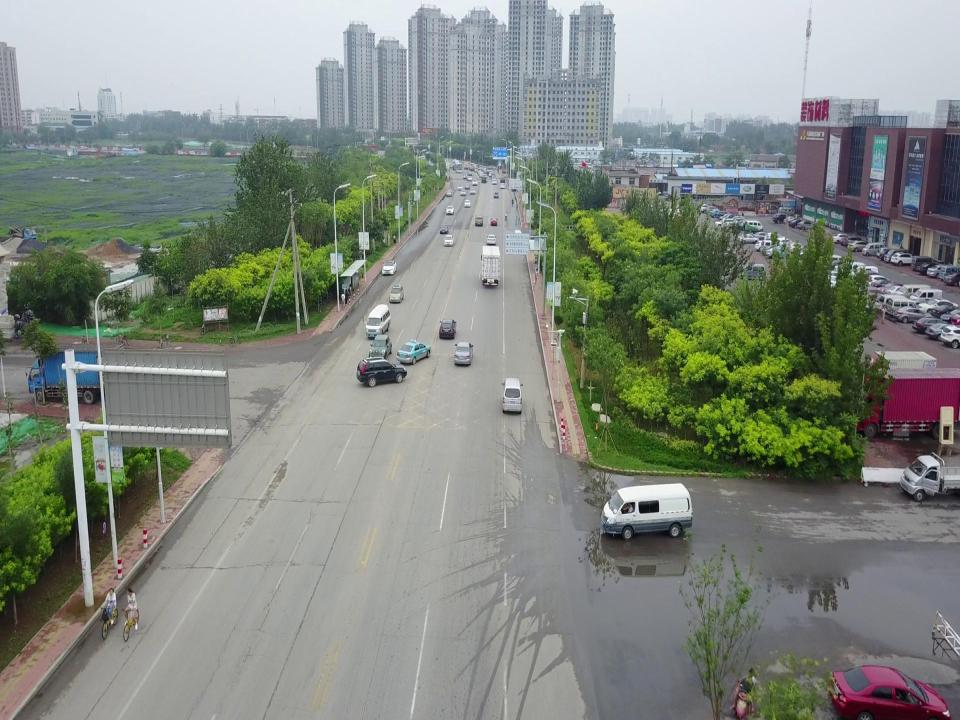car: (825, 664, 953, 720), (356, 355, 408, 389), (396, 338, 431, 364), (892, 306, 934, 324), (918, 298, 959, 315), (912, 317, 952, 334), (368, 335, 393, 361), (924, 323, 960, 341), (453, 340, 473, 366), (939, 324, 960, 348), (910, 256, 939, 271), (930, 305, 960, 319), (885, 285, 913, 300), (926, 264, 956, 278), (890, 252, 918, 267), (438, 318, 456, 340), (878, 282, 906, 296), (871, 278, 899, 292), (939, 308, 960, 325), (868, 274, 894, 287), (916, 262, 942, 275), (388, 284, 404, 304), (846, 240, 870, 253), (876, 247, 897, 261), (766, 246, 790, 258), (381, 260, 398, 276), (943, 271, 960, 286), (843, 237, 865, 248), (738, 234, 760, 245), (830, 233, 850, 244), (775, 236, 792, 248), (754, 241, 772, 252), (840, 235, 856, 247), (764, 232, 783, 242), (785, 243, 805, 252), (714, 219, 734, 228), (790, 219, 808, 229), (722, 213, 740, 223), (797, 221, 816, 230), (752, 232, 770, 241), (721, 223, 739, 232), (772, 214, 790, 223), (783, 216, 800, 225), (701, 206, 719, 214), (728, 216, 744, 225), (711, 209, 725, 219), (443, 234, 454, 246), (716, 210, 732, 218), (486, 234, 497, 245), (475, 215, 485, 227), (719, 213, 734, 221), (439, 223, 449, 234), (709, 209, 723, 216), (490, 217, 498, 226), (446, 205, 454, 214), (492, 191, 500, 199), (464, 200, 472, 207), (446, 190, 452, 197), (457, 184, 463, 191), (470, 188, 476, 194), (464, 183, 470, 189), (472, 179, 478, 185), (492, 178, 498, 184), (460, 190, 466, 195), (499, 183, 505, 188)
truck: (843, 366, 960, 443), (25, 343, 125, 407), (855, 351, 937, 402), (898, 451, 960, 503), (480, 244, 502, 284), (854, 289, 882, 319), (6, 225, 38, 244)
van: (599, 482, 693, 541), (365, 304, 391, 339), (501, 378, 525, 415), (896, 283, 930, 302), (878, 295, 908, 316), (886, 298, 918, 317), (910, 288, 943, 306), (738, 264, 766, 282), (884, 248, 910, 264), (853, 266, 879, 281), (861, 242, 885, 257), (938, 266, 960, 282), (820, 254, 842, 267), (740, 218, 760, 231), (762, 240, 780, 254), (745, 221, 763, 232), (777, 207, 794, 216)
